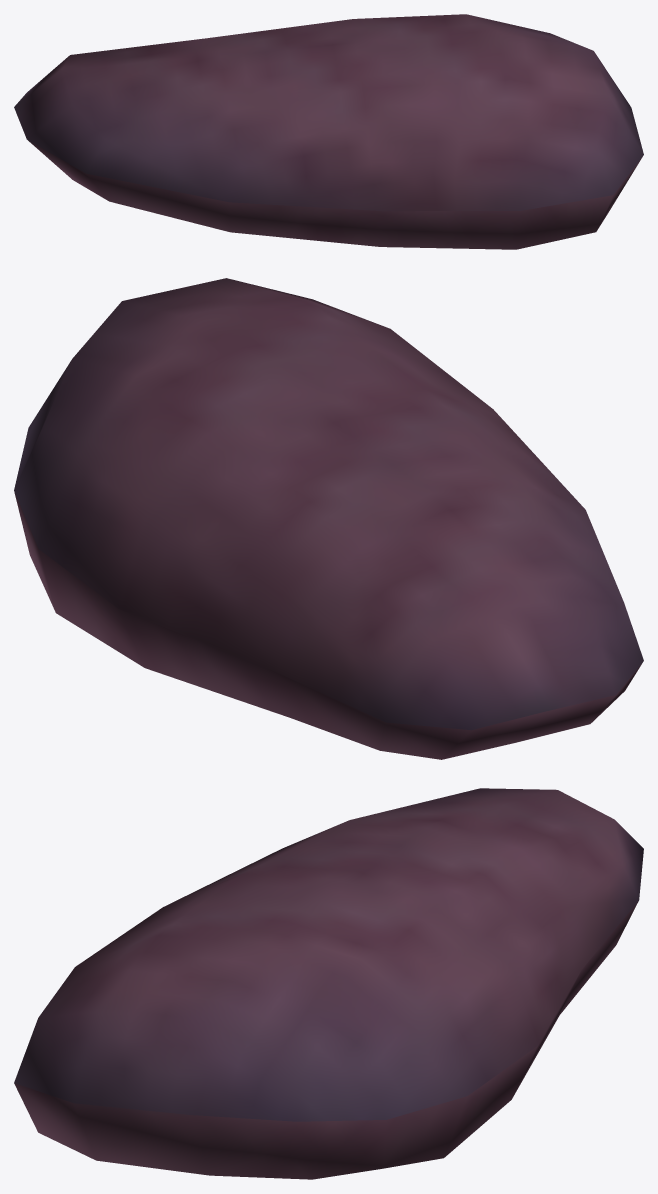
The model's file is Chicken_Burnt.fbx.
The picture shows the model from 3 angles, top to bottom: view 1: azimuth 30°, elevation 25°; view 2: azimuth 150°, elevation 25°; view 3: azimuth 270°, elevation 25°; orthographic projection. The views are drawn at different scales.
Visible parts, largest first — view 1: Chicken_Burnt; view 2: Chicken_Burnt; view 3: Chicken_Burnt.
Part boxes in pixels (<box>): Chicken_Burnt: <box>14,14,643,249</box>; Chicken_Burnt: <box>14,278,643,759</box>; Chicken_Burnt: <box>14,788,643,1179</box>.
Size of the model in its own units: 33.2 by 10.82 by 28.91.
